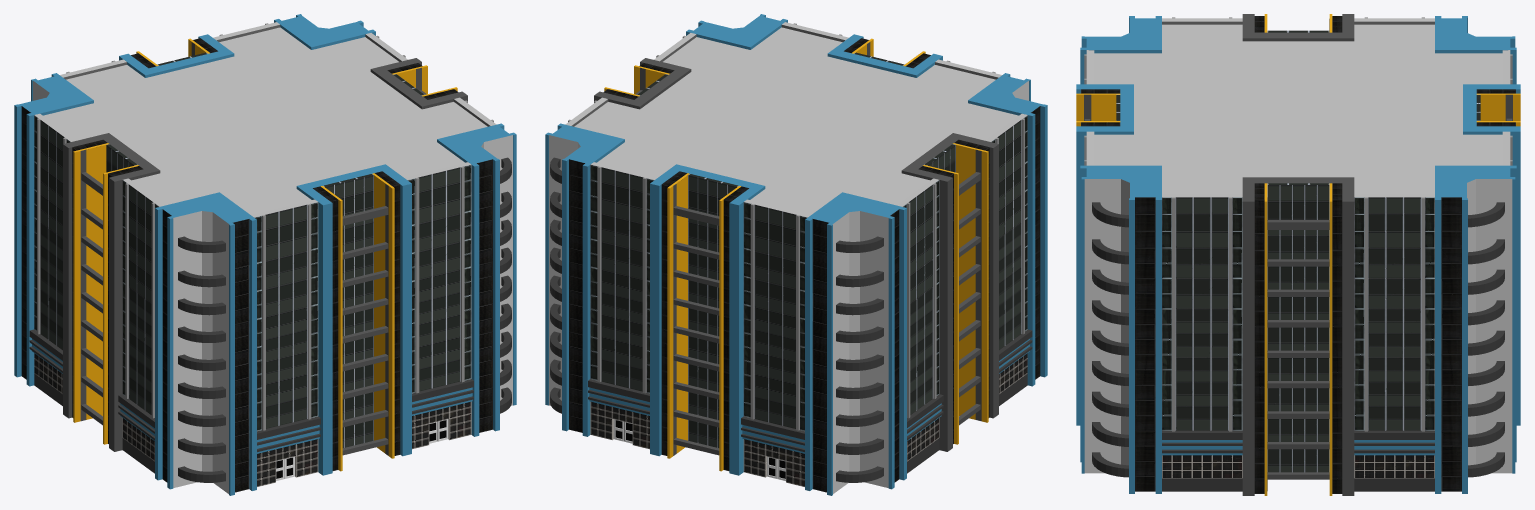
3 renders of one model, left to right at view 1: azimuth 30°, elevation 25°; view 2: azimuth 150°, elevation 25°; view 3: azimuth 270°, elevation 25°, orthographic. The views are drawn at different scales.
Parts seen in each view (by area): view 1: Building; view 2: Building; view 3: Building.
Part boxes in pixels (<box>): Building: <box>14,14,516,495</box>; Building: <box>545,14,1047,495</box>; Building: <box>1076,14,1520,495</box>.
Size of what is drawn, in the model's own units: 39.67 by 29 by 39.67.
